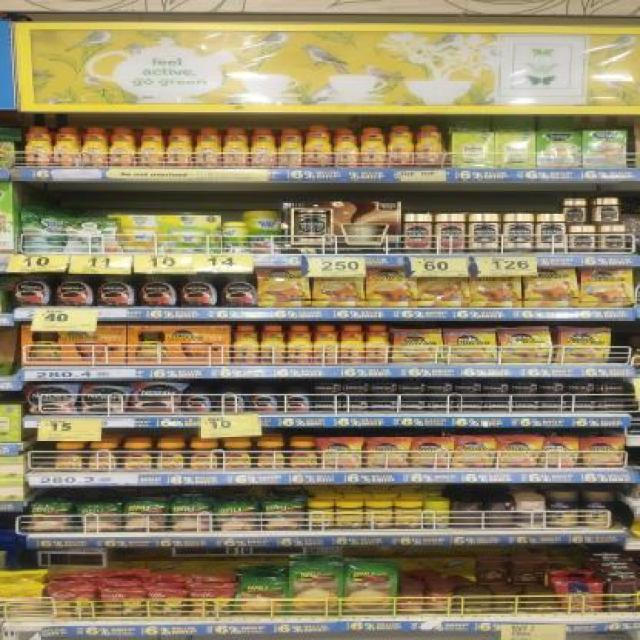Coffee: (578, 267, 634, 307), (524, 267, 578, 308), (258, 268, 311, 307), (470, 268, 522, 307), (418, 268, 470, 306), (314, 271, 366, 307), (559, 328, 611, 364), (498, 328, 552, 362), (368, 268, 415, 307), (446, 330, 498, 363), (392, 330, 444, 363), (30, 387, 77, 416), (133, 384, 179, 412), (318, 439, 362, 468), (496, 438, 538, 468), (82, 386, 126, 414), (100, 273, 136, 307), (366, 438, 408, 467), (454, 438, 496, 467), (58, 273, 94, 306), (16, 274, 53, 306), (141, 274, 175, 308), (181, 275, 217, 307), (505, 214, 533, 253), (412, 438, 451, 466), (540, 440, 581, 466), (583, 439, 621, 467), (223, 274, 255, 306), (537, 214, 563, 252), (472, 215, 498, 253), (54, 128, 78, 167), (306, 126, 328, 168), (196, 128, 220, 166), (251, 128, 275, 166), (419, 126, 441, 167), (27, 127, 50, 166), (83, 128, 106, 167), (391, 125, 412, 167), (112, 128, 135, 166), (122, 443, 153, 471), (167, 128, 189, 167), (221, 442, 251, 470), (335, 129, 357, 167), (225, 128, 247, 166), (364, 128, 385, 167), (190, 443, 219, 471), (90, 443, 119, 471), (155, 444, 185, 471), (141, 129, 162, 167), (264, 325, 285, 363), (341, 326, 362, 364), (315, 326, 336, 364), (237, 326, 258, 364), (368, 326, 389, 363), (290, 326, 310, 364), (282, 129, 302, 166), (56, 445, 84, 471), (570, 226, 596, 253), (259, 443, 285, 469), (291, 443, 317, 469), (601, 226, 625, 252), (283, 387, 309, 411), (185, 388, 211, 412), (596, 198, 619, 224), (219, 387, 243, 411), (252, 387, 276, 411), (565, 199, 586, 225), (600, 380, 628, 394), (343, 396, 366, 412), (568, 399, 595, 412), (399, 398, 425, 411), (427, 380, 451, 393), (455, 381, 479, 394), (569, 381, 593, 394), (401, 381, 425, 394), (511, 381, 537, 393), (483, 381, 507, 394), (371, 398, 395, 411), (603, 398, 629, 410), (457, 398, 481, 411), (513, 399, 539, 411), (541, 399, 567, 411), (314, 380, 337, 393), (314, 397, 337, 410), (371, 381, 395, 393), (344, 381, 368, 393), (540, 381, 564, 393), (430, 400, 454, 412), (486, 398, 508, 410)
